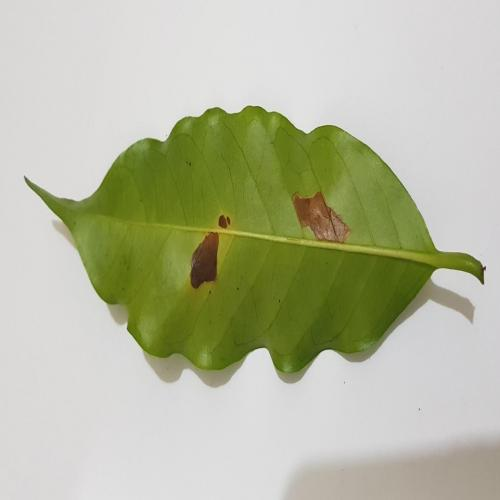leaf: (293, 193, 350, 243)
